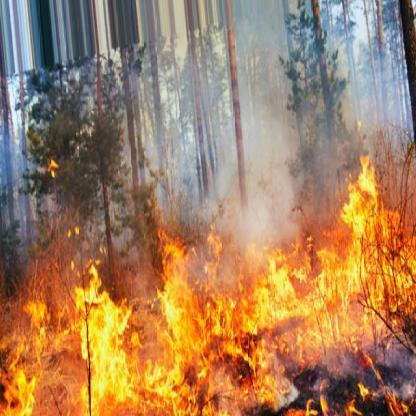fire: (24, 168, 409, 406)
